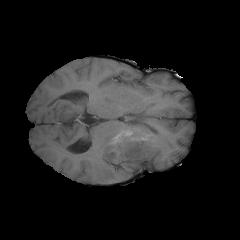glioma: (89, 126, 170, 183)
